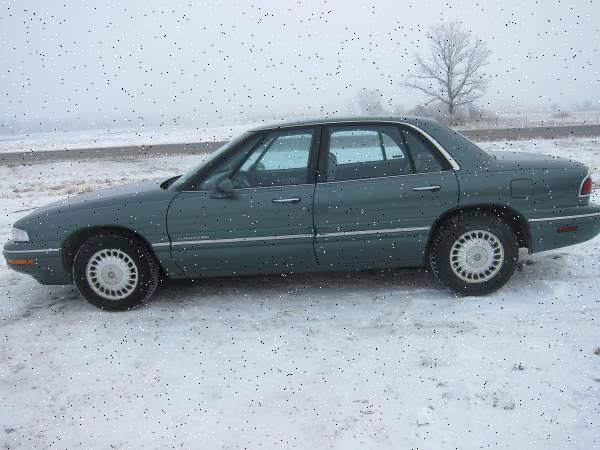Front_Bumper: (4, 243, 75, 287)
Front_Fender: (21, 194, 179, 273)
Front_Left_Door: (165, 187, 316, 279)
Front_Left_Window: (189, 130, 327, 191)
Hood: (19, 178, 177, 224)
Left_Headlight: (14, 228, 31, 243)
Left_Taillight: (577, 179, 594, 198)
Rear_Bumper: (521, 205, 600, 258)
Rear_Fender: (461, 166, 586, 212)
Rear_Left_Door: (308, 174, 460, 274)
Rear_Left_Window: (320, 127, 462, 188)
Roof: (174, 119, 494, 193)
Wheel: (434, 211, 520, 295), (70, 232, 155, 308)
